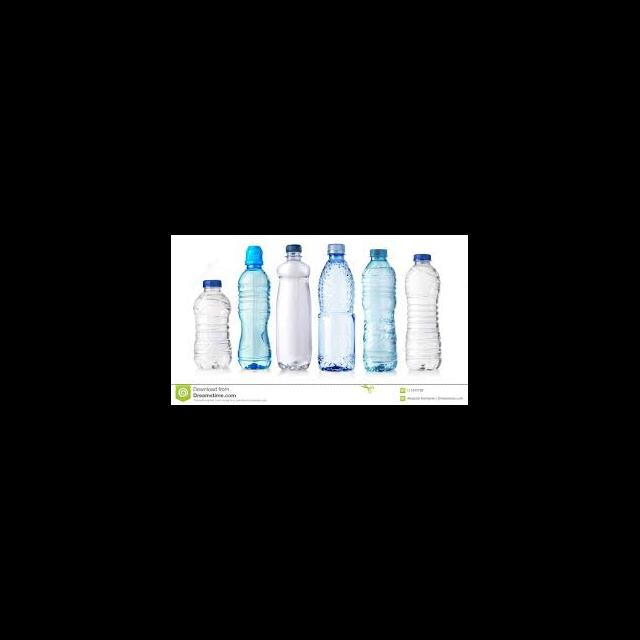plastic: (316, 243, 354, 371), (276, 243, 310, 371), (404, 253, 440, 371), (362, 249, 396, 371), (237, 244, 270, 369), (193, 280, 230, 369), (245, 244, 262, 266), (326, 243, 344, 254), (284, 243, 302, 253), (202, 279, 222, 288), (369, 248, 386, 258), (412, 252, 430, 261)
